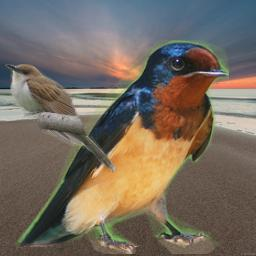Cuckoo: (5, 64, 117, 172)
Swallow: (15, 40, 229, 254)
